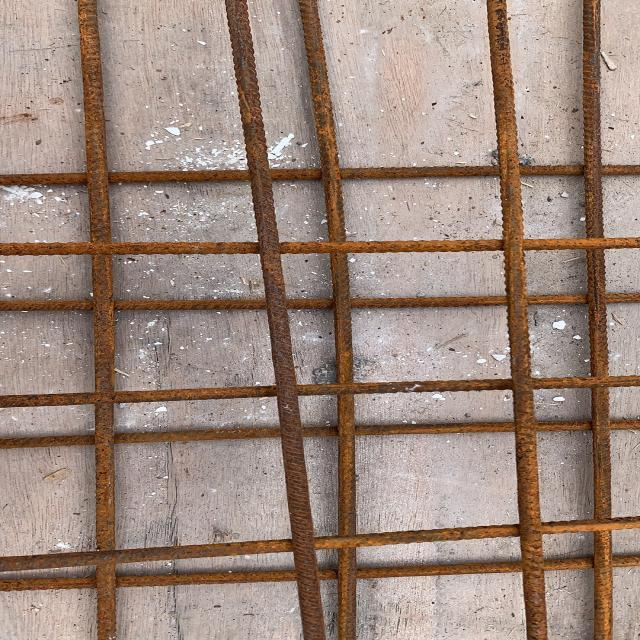ribbed bar: (225, 0, 327, 639), (290, 1, 366, 639), (486, 0, 553, 639), (1, 514, 640, 572), (78, 0, 123, 639), (1, 554, 640, 594), (1, 374, 640, 410), (581, 0, 614, 639), (1, 420, 640, 450), (1, 162, 640, 188), (1, 237, 640, 256), (1, 294, 640, 311)
